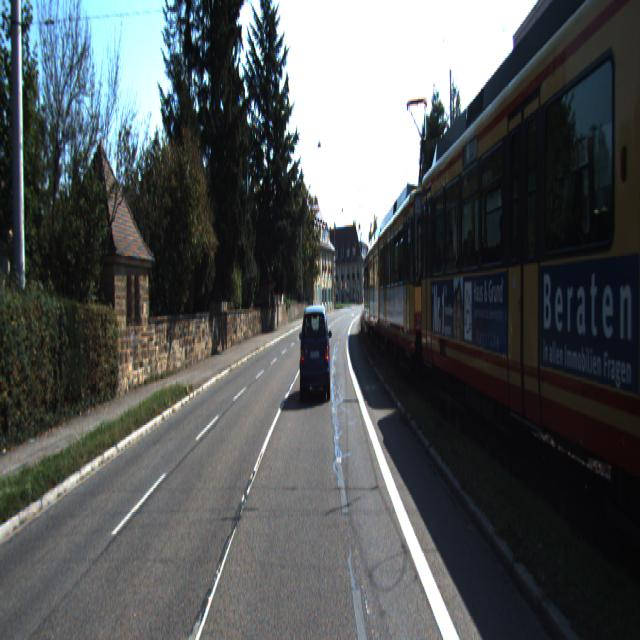Car: (420, 0, 639, 581), (377, 169, 455, 384), (368, 222, 402, 348), (300, 302, 332, 405), (362, 239, 388, 338)
